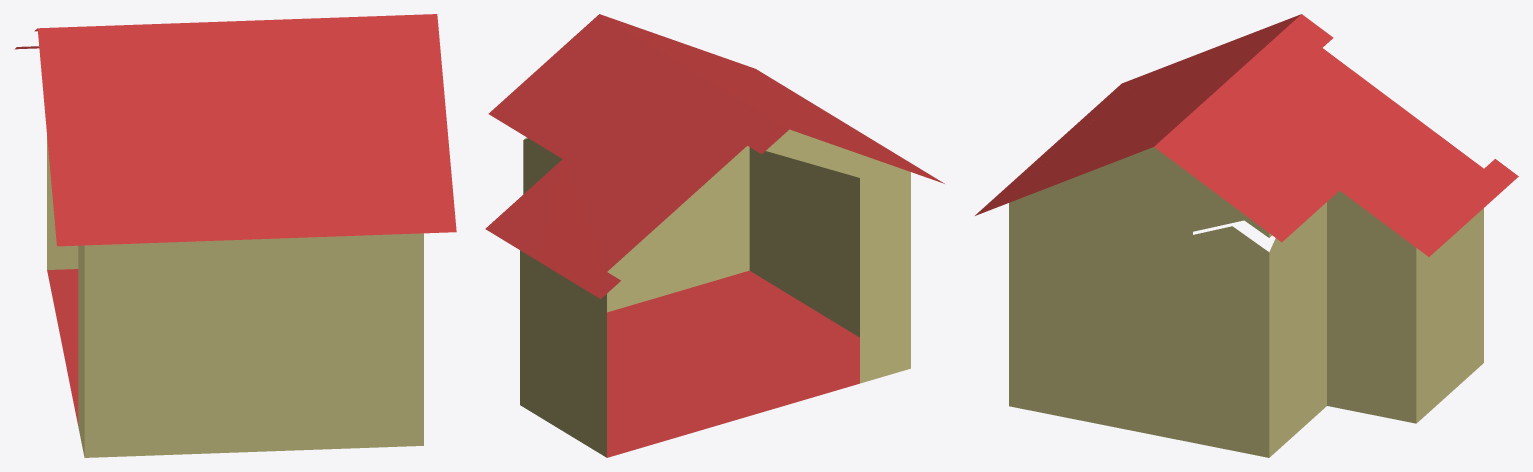
3 views of the same model, side by side, from view 1: azimuth 30°, elevation 25°; view 2: azimuth 150°, elevation 25°; view 3: azimuth 270°, elevation 25° (orthographic). The views are drawn at different scales.
Size of the model in its own units: 13.12 by 15.57 by 9.47.
